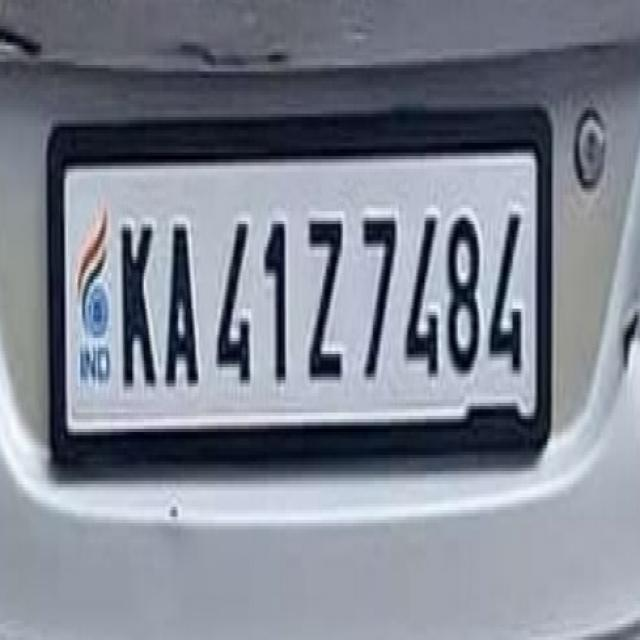1: (259, 206, 294, 395)
4: (484, 189, 532, 396), (216, 209, 256, 402), (406, 195, 444, 392)
7: (356, 183, 402, 396)
8: (442, 208, 487, 388)
A: (163, 213, 202, 404)
K: (116, 205, 162, 392)
Z: (302, 188, 348, 398)
